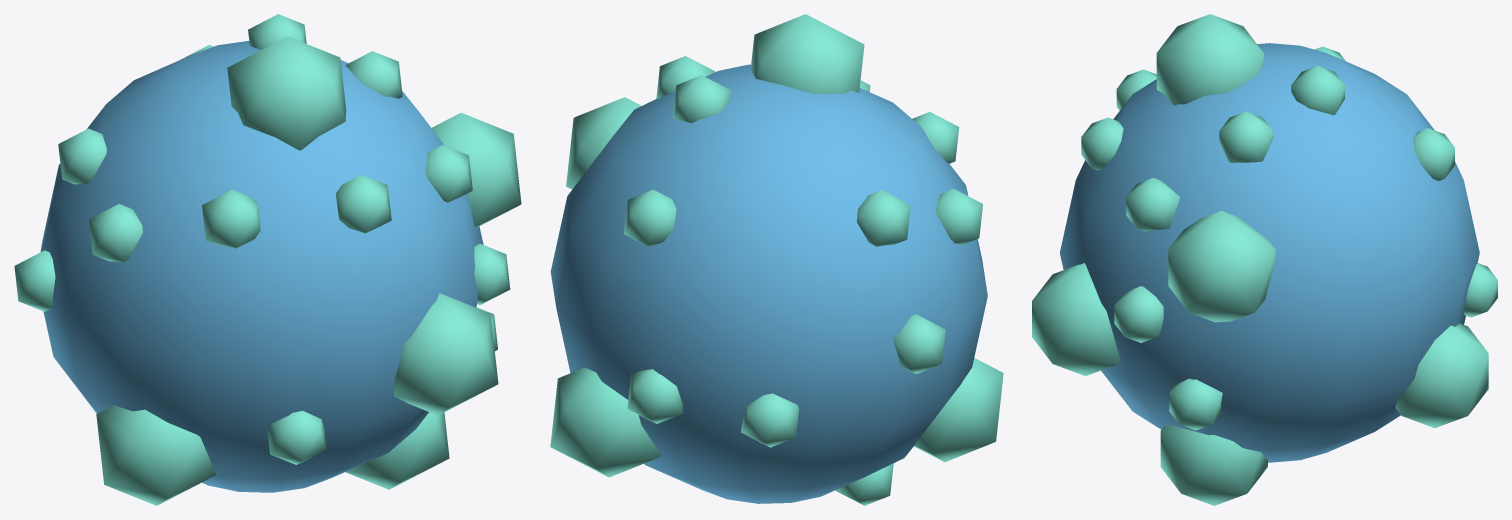
Rendered from T-Cell.fbx.
3 views of the same model, side by side, from view 1: azimuth 30°, elevation 25°; view 2: azimuth 150°, elevation 25°; view 3: azimuth 270°, elevation 25° (orthographic). The views are drawn at different scales.
Parts seen in each view (by area): view 1: T-Cell; view 2: T-Cell; view 3: T-Cell.
Part boxes in pixels (x1=…): T-Cell: x1=14, y1=14, x2=521, y2=505; T-Cell: x1=550, y1=14, x2=1003, y2=505; T-Cell: x1=1032, y1=14, x2=1497, y2=505.
Size of the model in its own units: 223 by 234 by 222.
